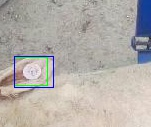text: (14, 57, 47, 85)
